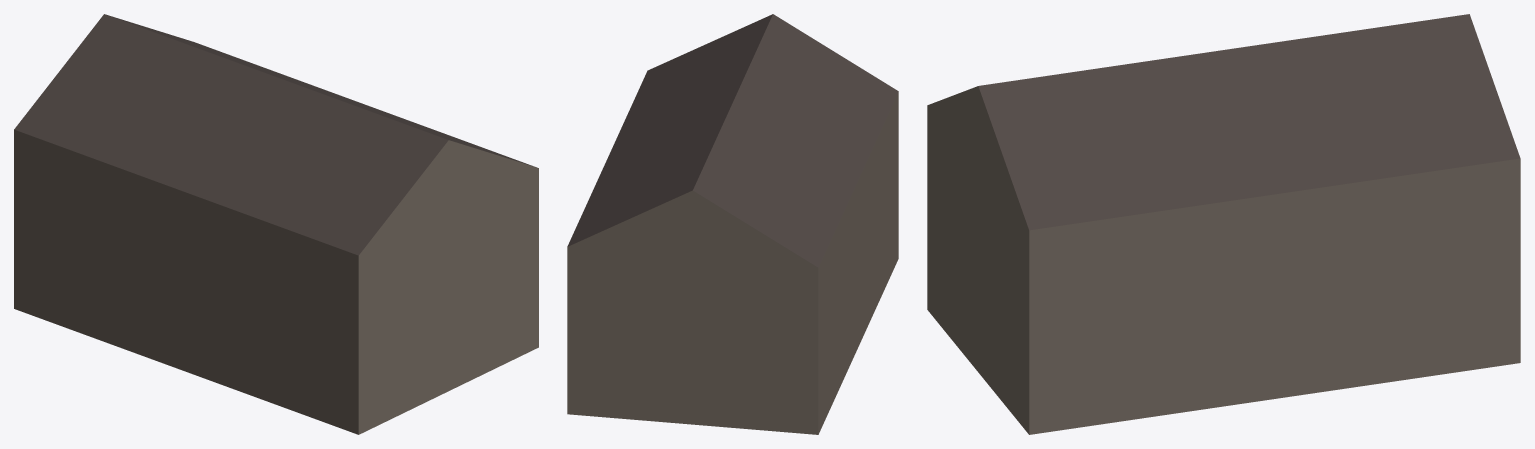
3 renders of one model, left to right at view 1: azimuth 30°, elevation 25°; view 2: azimuth 150°, elevation 25°; view 3: azimuth 270°, elevation 25°, orthographic. The views are drawn at different scales.
Parts seen in each view (by area): view 1: HP-w1376988809; view 2: HP-w1376988809; view 3: HP-w1376988809.
Boxes of the visible parts, x1,y1,x2,y2 form: HP-w1376988809: [14, 14, 538, 434]; HP-w1376988809: [567, 14, 898, 434]; HP-w1376988809: [927, 14, 1520, 434].
Size of the model in its own units: 12.4 by 8.4 by 15.77.
